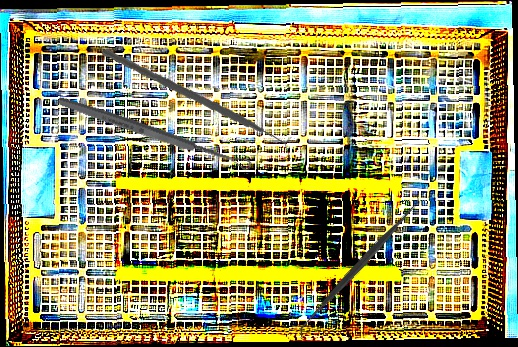Chopper: (100, 34, 293, 176)
Spatula Surgical: (288, 192, 430, 341)
Surgical Spoon: (56, 94, 253, 173)
